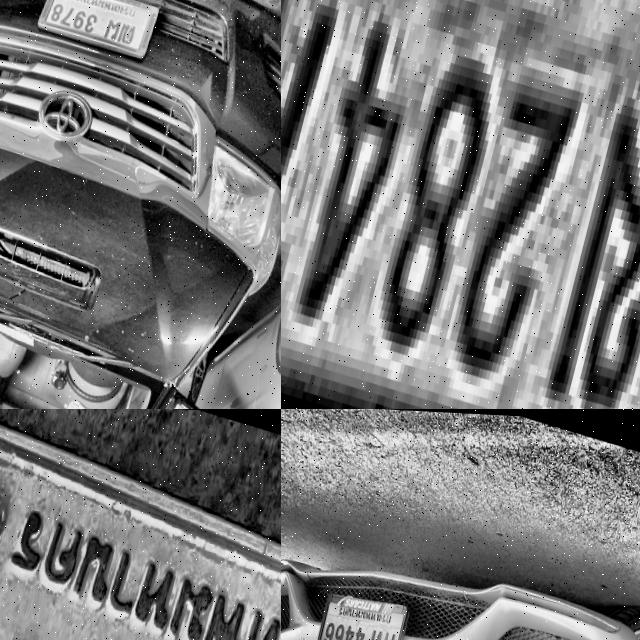license-plate: (281, 0, 640, 409), (0, 409, 281, 640), (309, 572, 415, 640), (35, 0, 160, 56)
